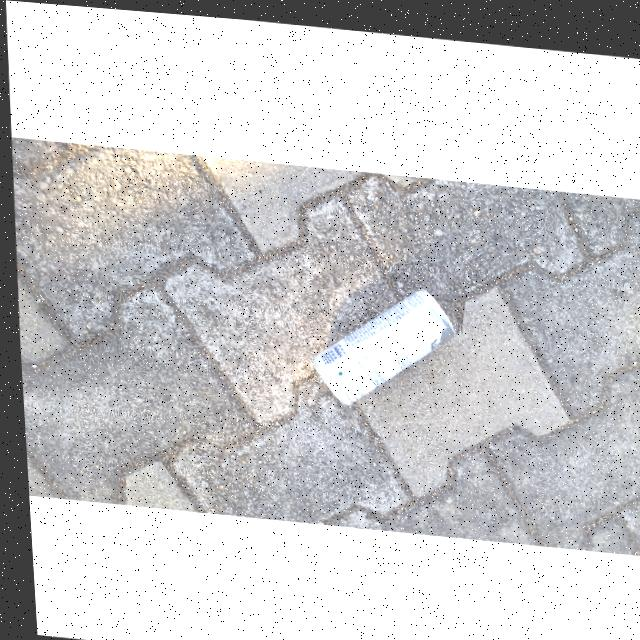Redbull Summer Edition: (308, 261, 456, 417)
